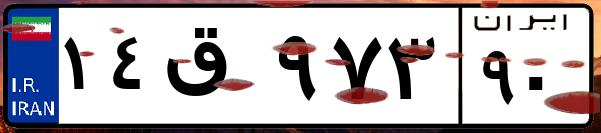0: (525, 38, 570, 115)
1: (57, 26, 110, 100)
3: (385, 28, 445, 110)
4: (110, 28, 158, 98)
7: (330, 28, 385, 110)
9: (270, 28, 330, 110), (475, 38, 525, 113)
ق: (158, 20, 270, 120)
